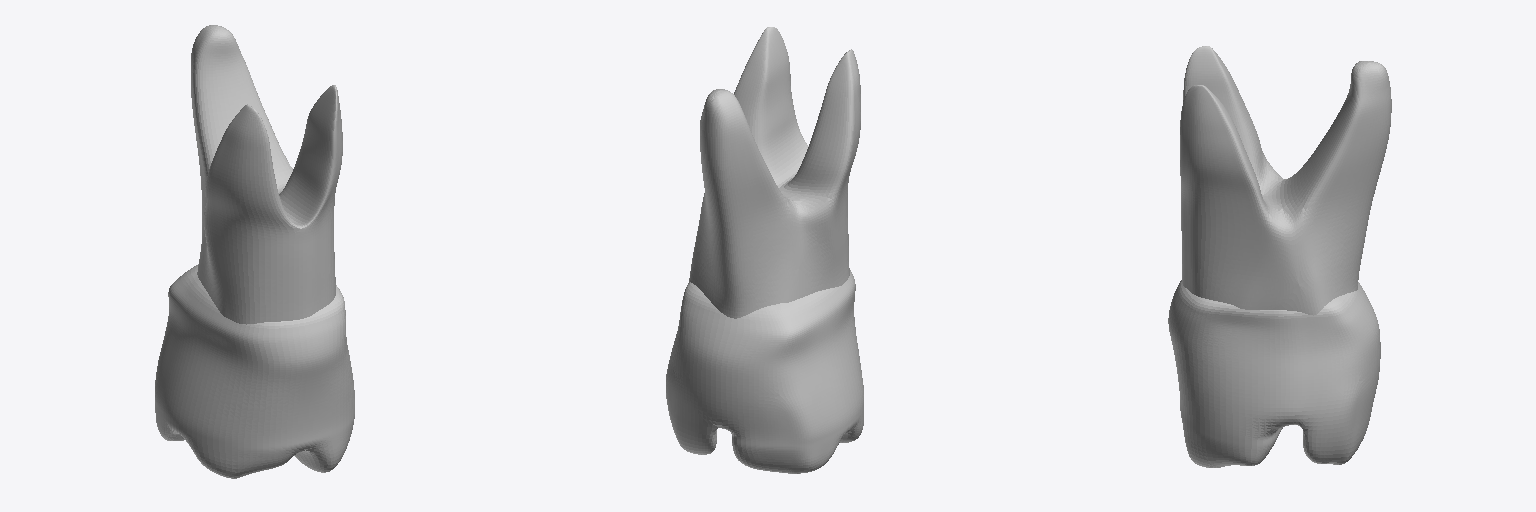
Rendered from modelo.obj.
3 views of the same model, side by side, from view 1: azimuth 30°, elevation 25°; view 2: azimuth 150°, elevation 25°; view 3: azimuth 270°, elevation 25° (orthographic).
Visible parts, largest first — view 1: Cylinder, Cylinder.001; view 2: Cylinder, Cylinder.001; view 3: Cylinder, Cylinder.001.
Part boxes in pixels (left/top/right/bottom): Cylinder: left=191, top=25, right=342, bottom=324; Cylinder.001: left=155, top=264, right=354, bottom=478; Cylinder: left=689, top=27, right=860, bottom=318; Cylinder.001: left=666, top=270, right=863, bottom=473; Cylinder: left=1180, top=46, right=1391, bottom=315; Cylinder.001: left=1168, top=280, right=1380, bottom=467.
Bounding box in the file's own units: 2.35 × 5.37 × 2.77.